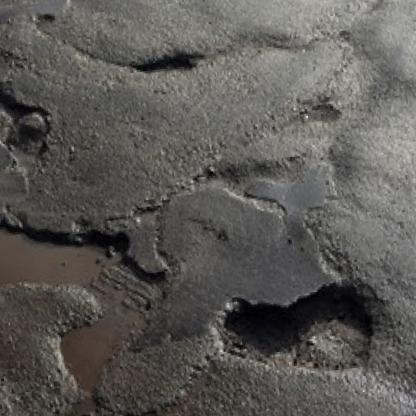pothole: (0, 203, 177, 395), (216, 276, 381, 388), (0, 79, 53, 168), (135, 49, 196, 76), (306, 0, 415, 12)
